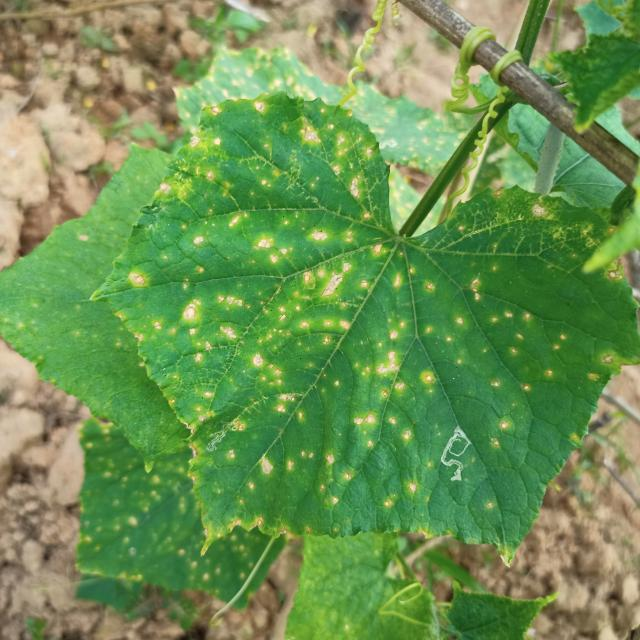disease_cucumber: (143, 112, 586, 541)
